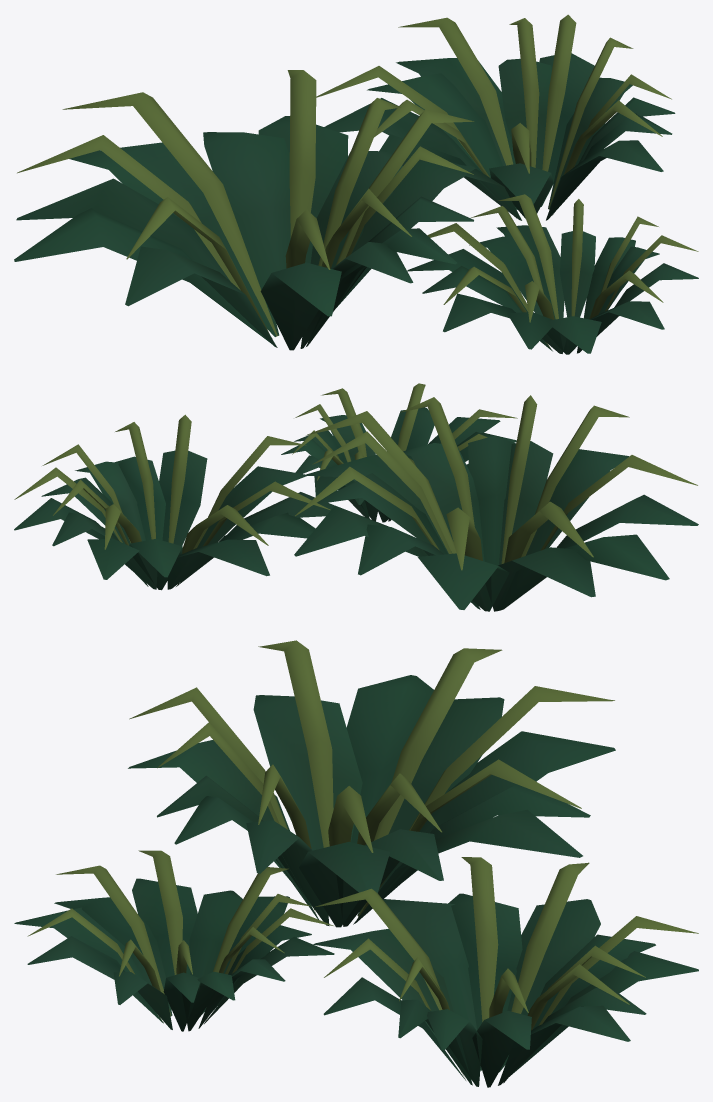
Rendered from skyreach-wind-garden-v1.glb.
3 renders of one model, top to bottom at view 1: azimuth 30°, elevation 25°; view 2: azimuth 150°, elevation 25°; view 3: azimuth 270°, elevation 25°, orthographic. The views are drawn at different scales.
Visible parts, largest first — view 1: GB_GARDEN_Leaves, GB_GARDEN_Grass; view 2: GB_GARDEN_Leaves, GB_GARDEN_Grass; view 3: GB_GARDEN_Leaves, GB_GARDEN_Grass.
Boxes of the visible parts, bbox=[...] form: GB_GARDEN_Leaves: bbox=[14, 53, 698, 354]; GB_GARDEN_Grass: bbox=[17, 14, 698, 348]; GB_GARDEN_Leaves: bbox=[14, 407, 698, 611]; GB_GARDEN_Grass: bbox=[14, 383, 697, 584]; GB_GARDEN_Leaves: bbox=[14, 675, 698, 1087]; GB_GARDEN_Grass: bbox=[27, 640, 698, 1075].
Bounding box in the file's own units: 2.23 × 0.613 × 1.86.
